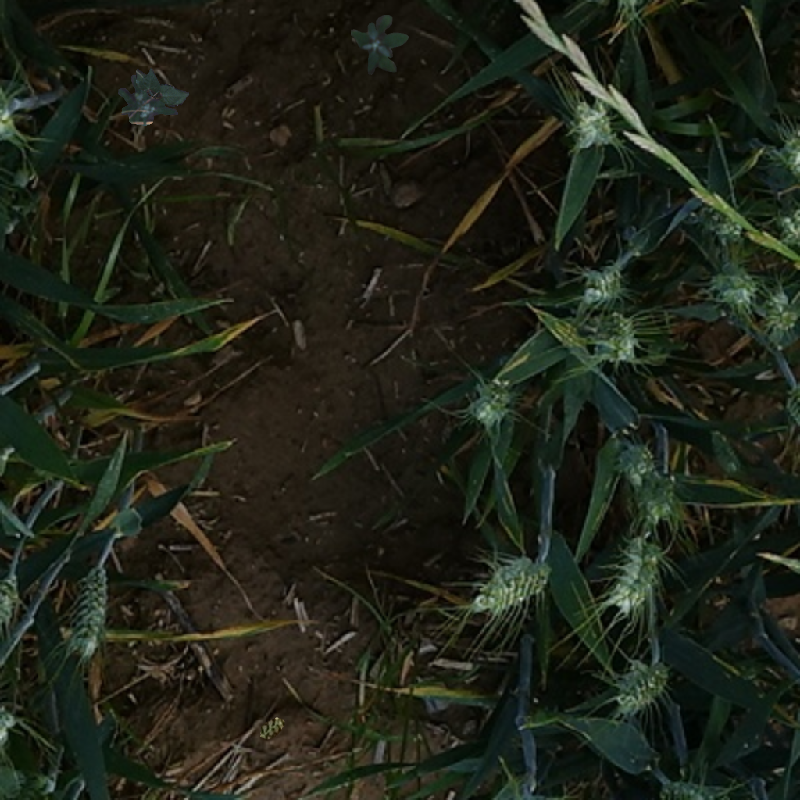spikelet: (465, 543, 555, 617), (61, 557, 111, 661), (605, 542, 658, 612), (610, 662, 667, 707), (711, 261, 760, 310), (568, 100, 617, 146), (690, 201, 742, 242), (470, 382, 514, 430), (592, 314, 635, 360), (638, 478, 679, 525), (769, 123, 800, 181), (761, 285, 800, 331), (580, 260, 624, 300), (1, 563, 25, 634), (619, 443, 656, 478), (771, 201, 798, 246)
weed: (115, 68, 180, 130), (351, 15, 409, 75), (128, 62, 192, 113), (258, 713, 286, 744)
